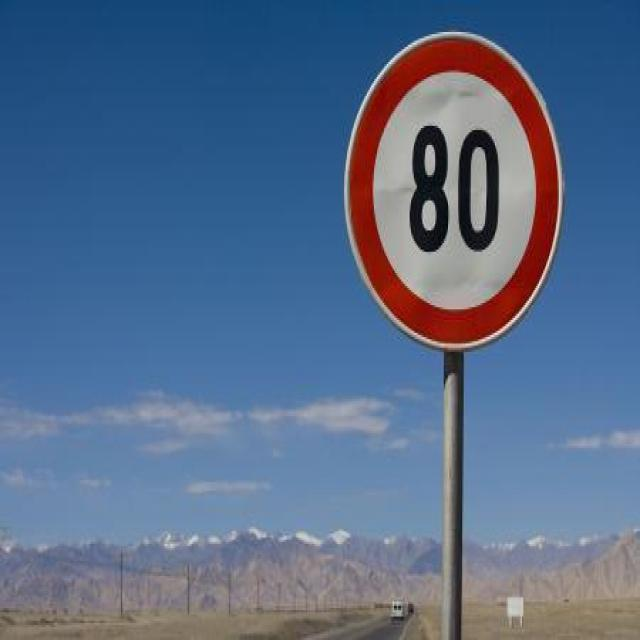speed limit 80: (343, 30, 564, 354)
